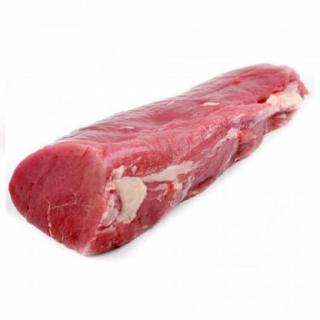Daging Sapi: (10, 65, 311, 257)
